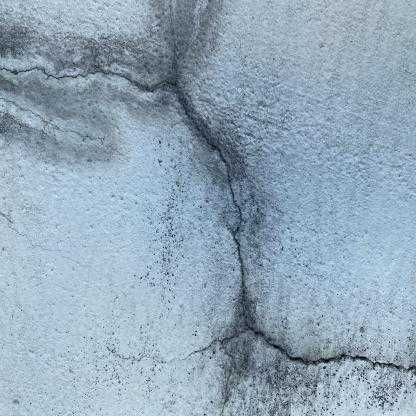crack: (0, 64, 415, 377)
